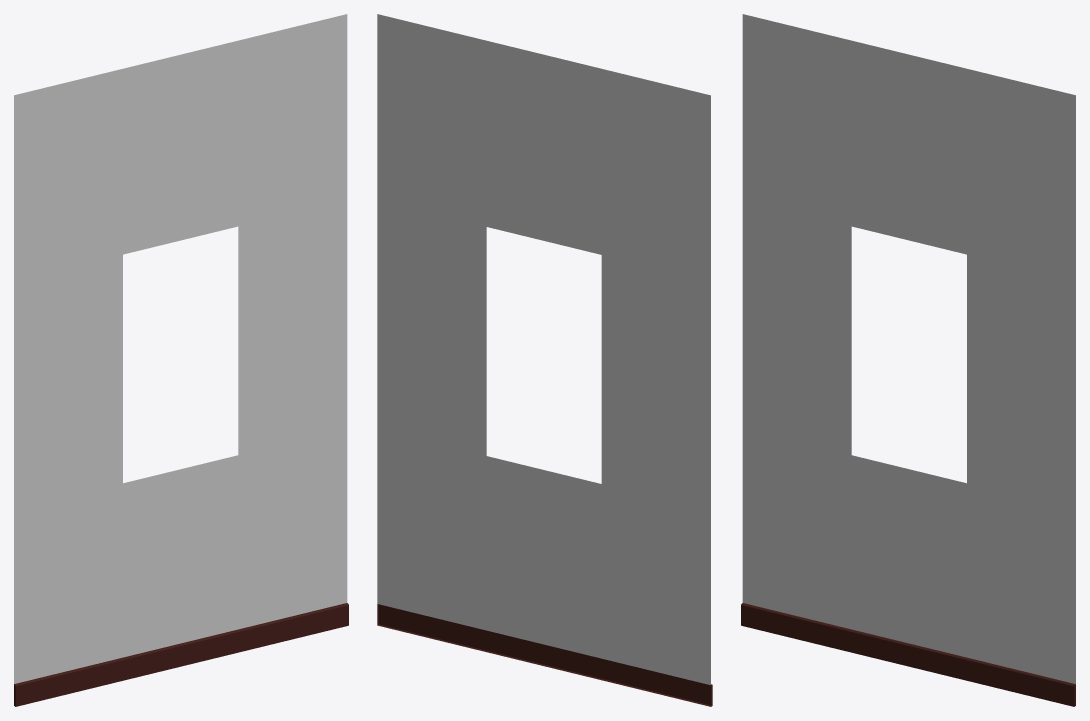
Rendered from Hallway_Wall.019.fbx.
The picture shows the model from 3 angles, left to right: view 1: azimuth 30°, elevation 25°; view 2: azimuth 150°, elevation 25°; view 3: azimuth 330°, elevation 25°; orthographic projection.
Visible parts, largest first — view 1: Hallway_Wall.019; view 2: Hallway_Wall.019; view 3: Hallway_Wall.019.
Boxes of the visible parts, box(x1,y1,x2,y2) form: Hallway_Wall.019: box(14, 14, 348, 706); Hallway_Wall.019: box(377, 14, 712, 706); Hallway_Wall.019: box(741, 14, 1075, 706).
Size of the model in its own units: 157 by 275 by 1.33.
